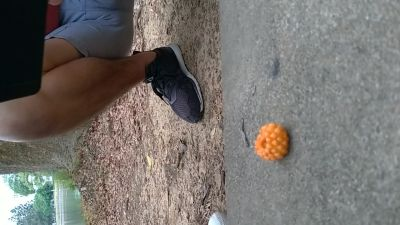eggs: (253, 122, 292, 163)
